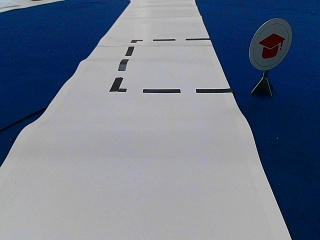school: (249, 17, 291, 69)
